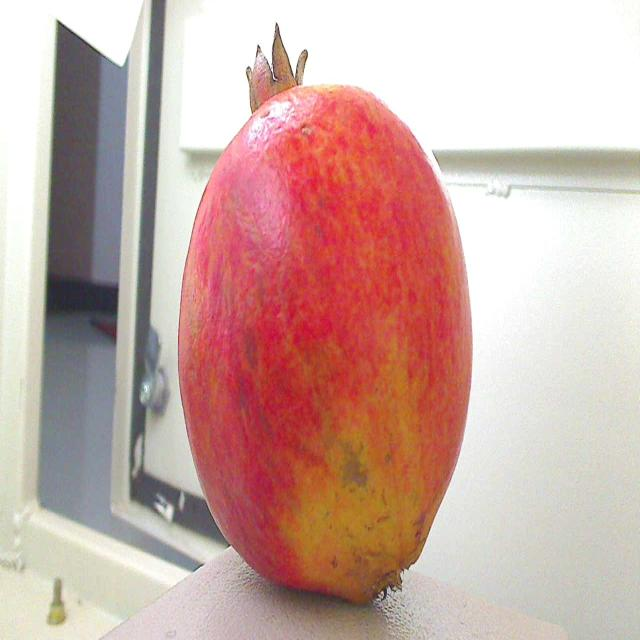pomegranate: (172, 14, 489, 618)
